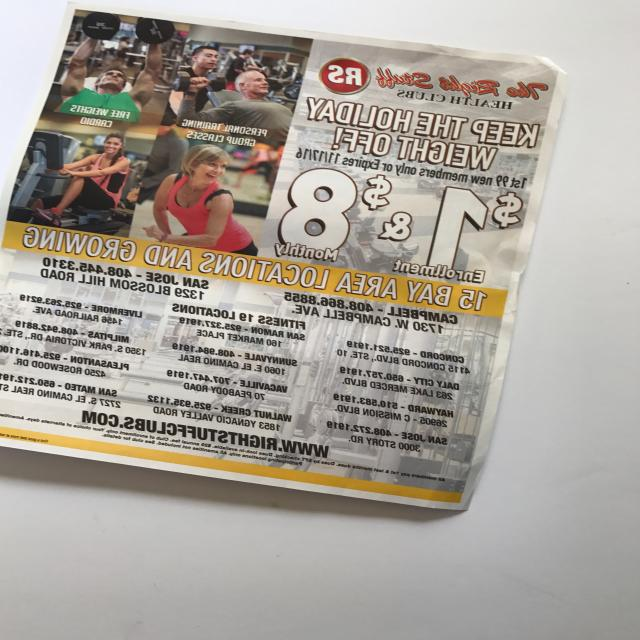paper: (0, 0, 593, 545)
